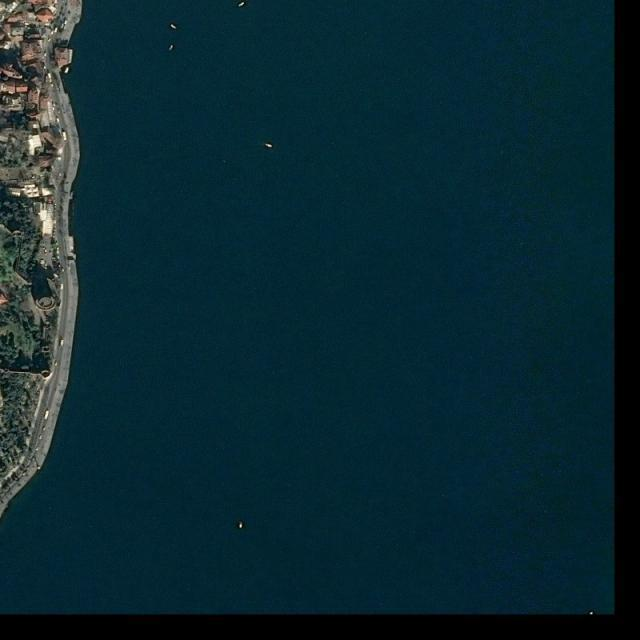ship: (170, 23, 178, 30), (64, 66, 70, 75), (266, 143, 274, 149), (238, 2, 246, 8), (238, 522, 243, 530), (168, 45, 174, 51)
